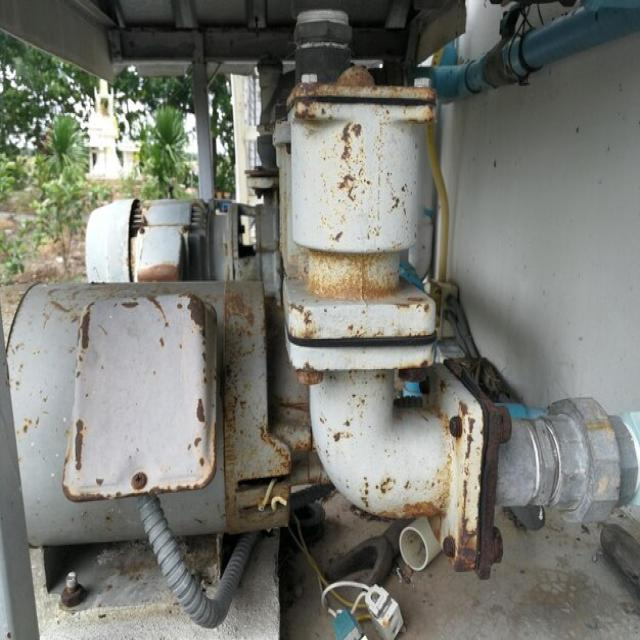compressor: (1, 19, 636, 630)
